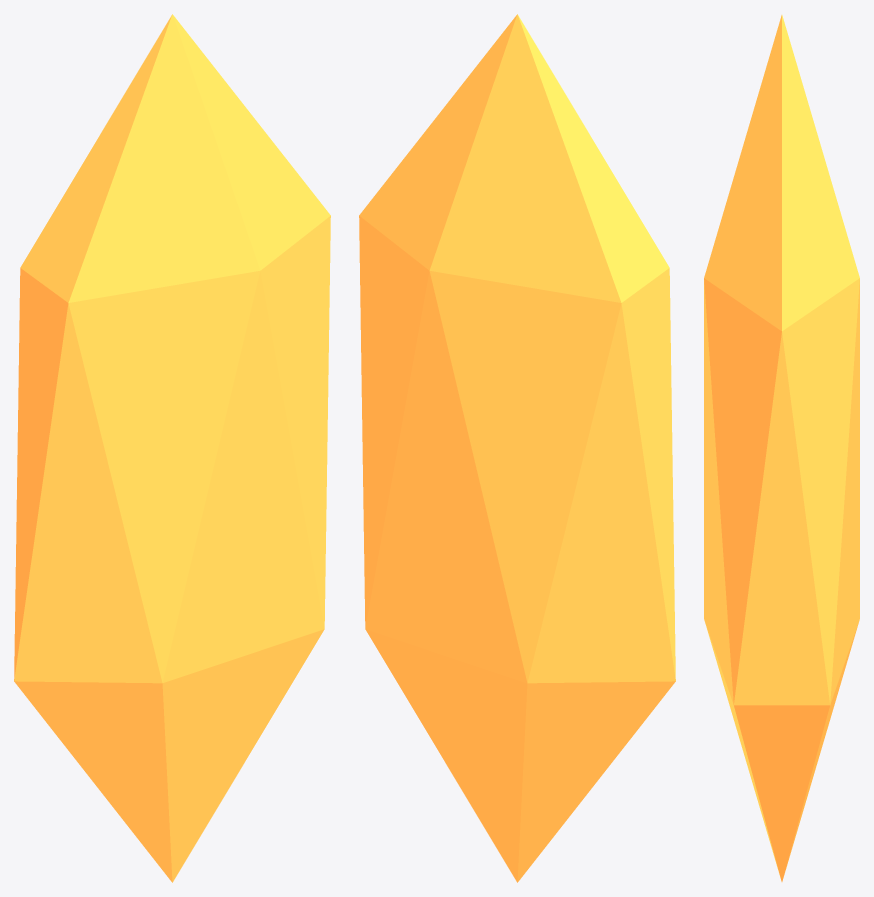
File: fire_fragment_b.glb
3 renders of one model, left to right at view 1: azimuth 30°, elevation 25°; view 2: azimuth 150°, elevation 25°; view 3: azimuth 270°, elevation 25°, orthographic.
Visible parts, largest first — view 1: fire_fragment_b; view 2: fire_fragment_b; view 3: fire_fragment_b.
Boxes of the visible parts, <box> form: fire_fragment_b: <box>14,14,330,882</box>; fire_fragment_b: <box>359,14,675,882</box>; fire_fragment_b: <box>704,15,859,881</box>.
Size of the model in its own units: 0.2594 by 0.68 by 0.1106.
